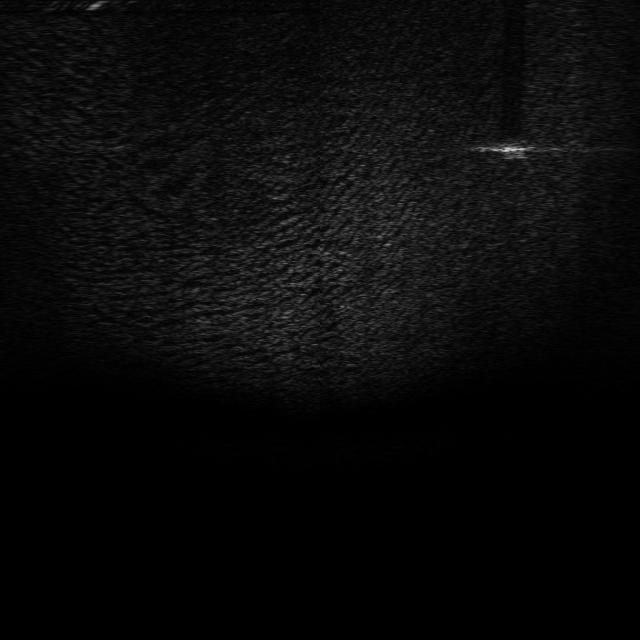cube: (496, 134, 534, 159)
